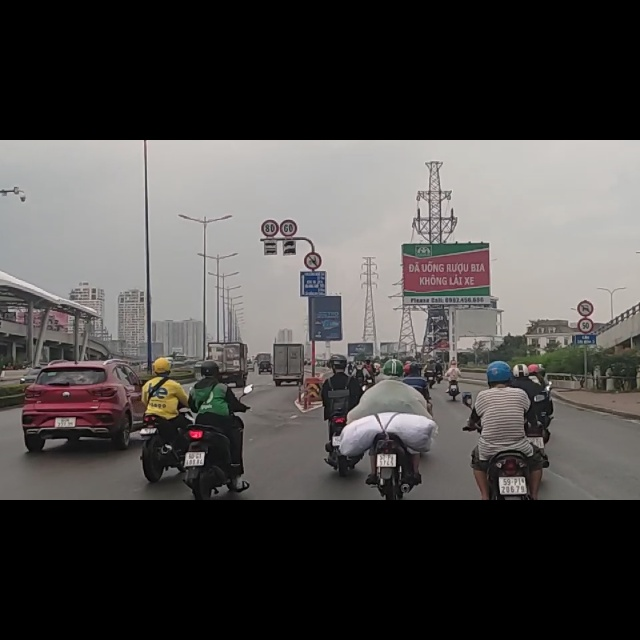bien_cam: (304, 198, 321, 231), (577, 281, 594, 314), (282, 142, 299, 172), (262, 141, 278, 172), (579, 315, 593, 345)
